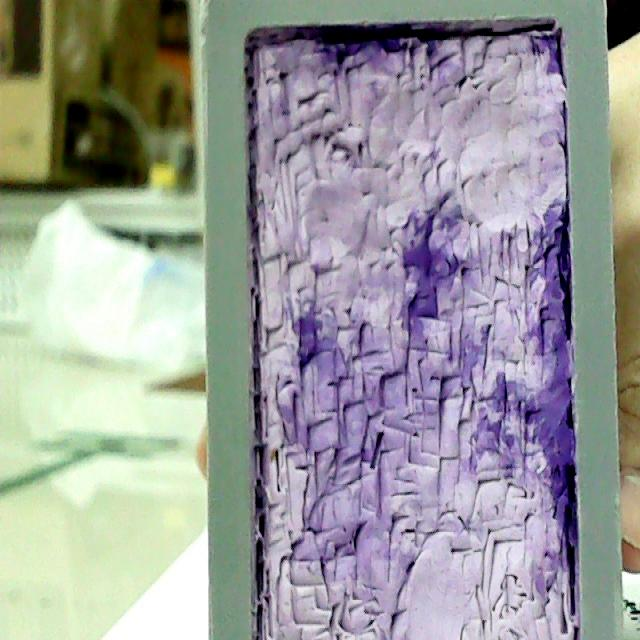block: (195, 1, 634, 640)
